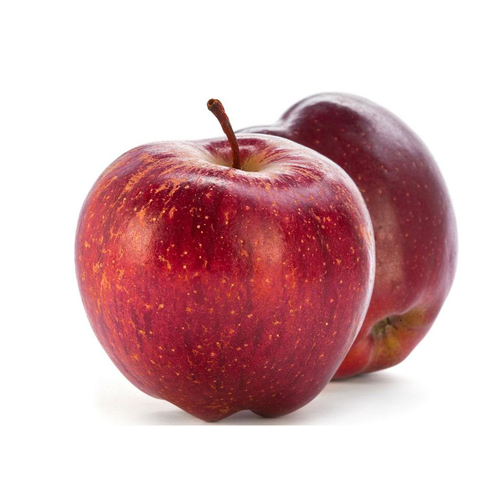Apple: (76, 87, 363, 418)
